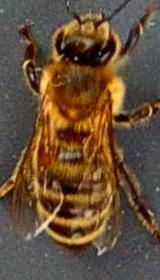varroa_mite: (28, 128, 68, 174)
